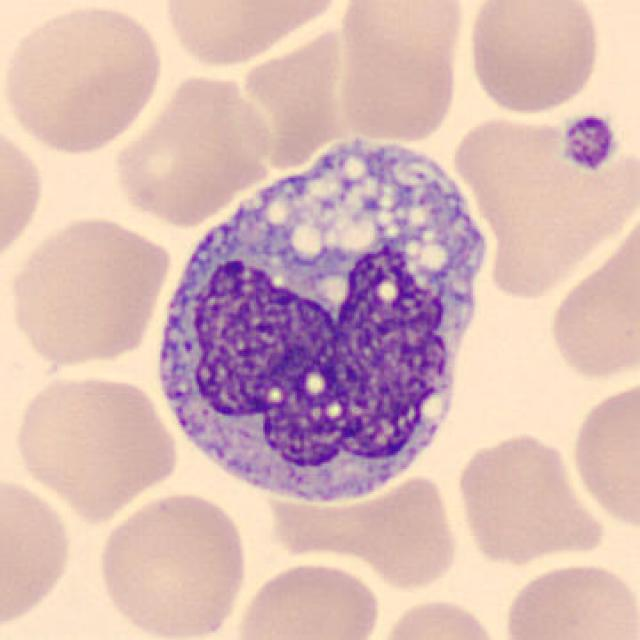Monocyte: (137, 125, 507, 522)
Platelets: (558, 111, 619, 175)
RBC: (108, 67, 276, 227), (4, 212, 174, 370), (0, 2, 167, 158), (9, 369, 181, 520), (92, 488, 250, 640), (452, 427, 606, 566), (332, 0, 467, 146), (327, 469, 464, 594), (462, 0, 604, 116), (544, 215, 640, 384), (156, 0, 346, 71), (231, 557, 384, 640), (0, 470, 76, 636), (498, 557, 638, 640), (567, 376, 638, 534), (0, 115, 48, 273), (369, 594, 506, 640)
